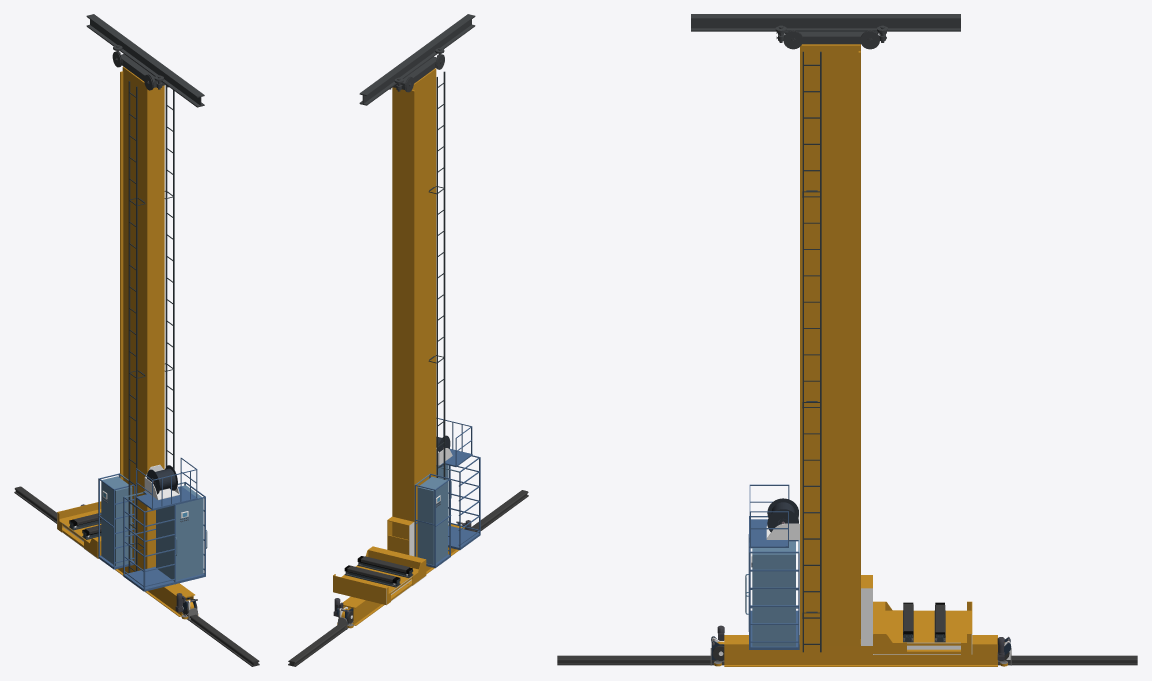
Rendered from M0401_单立柱堆垛机_长170x宽132x高1218cm_V1.0.obj.
3 views of the same model, side by side, from view 1: azimuth 30°, elevation 25°; view 2: azimuth 150°, elevation 25°; view 3: azimuth 270°, elevation 25° (orthographic). The views are drawn at different scales.
Visible parts, largest first — view 1: column, electric_5, ladder_1, electric_2, ladder, up_track, track, body_35, body_53, wheel, body_70, body_3 (+3 smaller); view 2: column, electric_2, ladder_1, up_track, track, body_3, body_1, body_7, body_35, body, body_70, body_71; view 3: column, up_track, body_70, electric_5, ladder, track, body, body_1, body_71.
Part boxes in pixels (left/top/right/bottom): column: left=120, top=66, right=164, bottom=570; electric_5: left=156, top=485, right=203, bottom=580; ladder_1: left=128, top=81, right=145, bottom=572; electric_2: left=101, top=476, right=132, bottom=566; ladder: left=164, top=85, right=174, bottom=469; up_track: left=86, top=14, right=204, bottom=107; track: left=14, top=486, right=259, bottom=666; body_35: left=123, top=566, right=204, bottom=591; body_53: left=136, top=486, right=197, bottom=509; wheel: left=147, top=465, right=177, bottom=494; body_70: left=118, top=565, right=193, bottom=615; body_3: left=57, top=501, right=101, bottom=532; column: left=392, top=68, right=436, bottom=556; electric_2: left=417, top=477, right=447, bottom=564; ladder_1: left=428, top=71, right=445, bottom=479; up_track: left=359, top=14, right=475, bottom=105; track: left=288, top=490, right=528, bottom=666; body_3: left=333, top=574, right=390, bottom=605; body_1: left=387, top=516, right=414, bottom=556; body_7: left=368, top=546, right=425, bottom=569; body_35: left=448, top=526, right=480, bottom=549; body: left=341, top=565, right=418, bottom=593; body_70: left=343, top=547, right=456, bottom=624; body_71: left=393, top=57, right=436, bottom=89; column: left=800, top=44, right=860, bottom=646; up_track: left=691, top=14, right=960, bottom=31; body_70: left=724, top=645, right=997, bottom=664; electric_5: left=752, top=541, right=795, bottom=646; ladder: left=802, top=51, right=821, bottom=652; track: left=557, top=655, right=1137, bottom=665; body: left=885, top=610, right=971, bottom=645; body_1: left=861, top=575, right=872, bottom=645; body_71: left=798, top=31, right=864, bottom=44.
Bounding box in the file's own units: 151 × 1229 × 1000.
